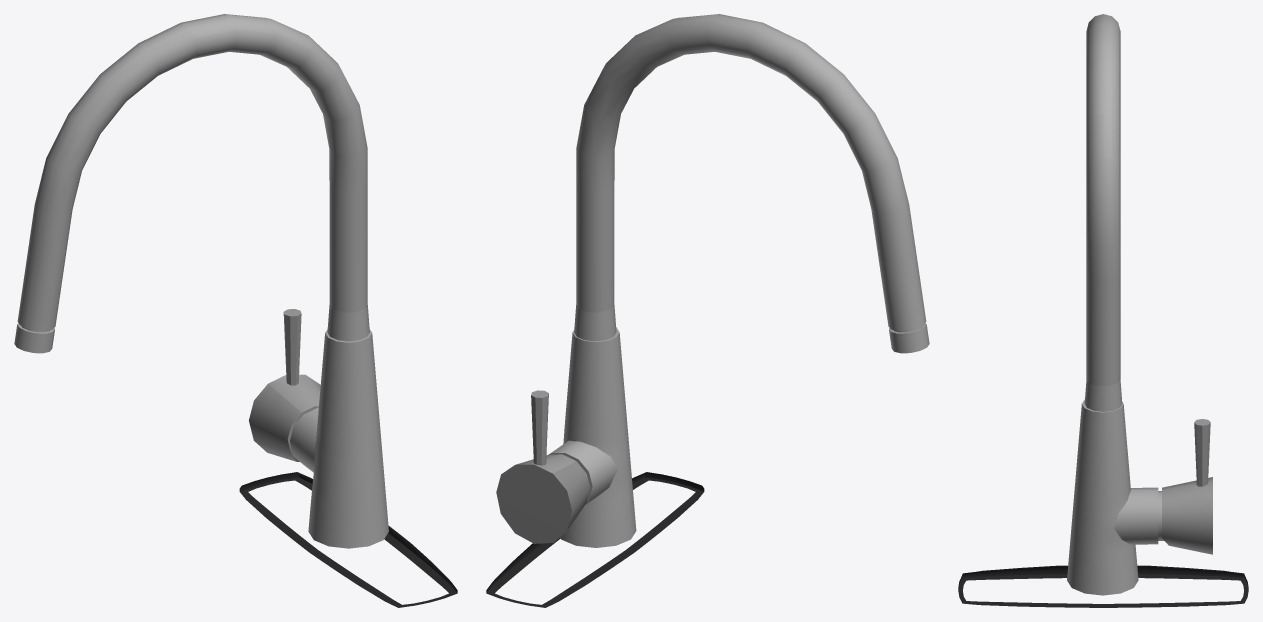
Rendered from Faucet.fbx.
The picture shows the model from 3 angles, left to right: view 1: azimuth 30°, elevation 25°; view 2: azimuth 150°, elevation 25°; view 3: azimuth 270°, elevation 25°; orthographic projection. The views are drawn at different scales.
Parts seen in each view (by area): view 1: faucet; view 2: faucet; view 3: faucet.
Part boxes in pixels (x1,y1,x2,y2): faucet: (14,14,457,607); faucet: (486,14,929,607); faucet: (958,14,1248,607).
Bounding box in the file's own units: 78.8 × 113 × 60.04.
1 material, 1 textured.
